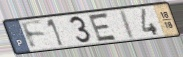1: (46, 18, 65, 47)
3: (70, 15, 93, 46)
4: (140, 7, 160, 37)
E: (87, 11, 119, 43)
F: (19, 19, 48, 51)
I: (119, 8, 137, 41)
